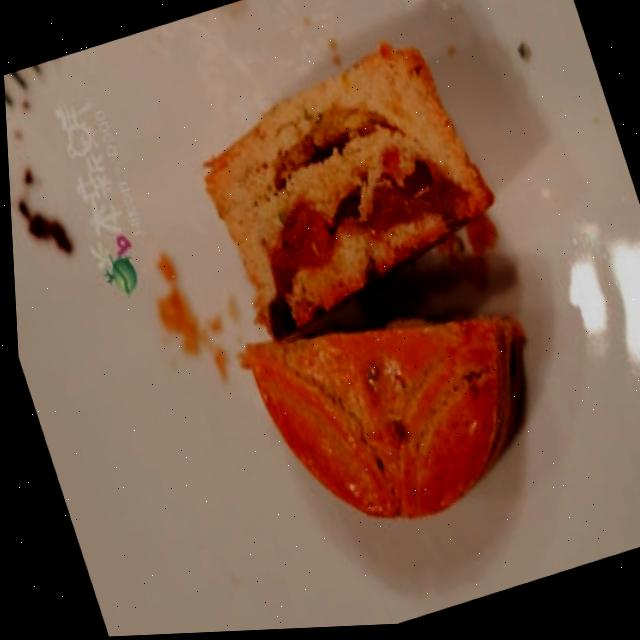蛋糕甜品: (110, 0, 632, 599)
